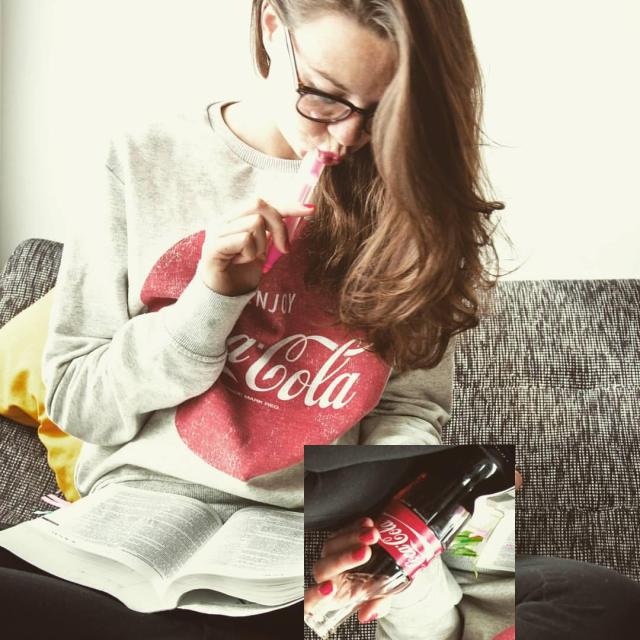coca-cola: (304, 445, 515, 640)
